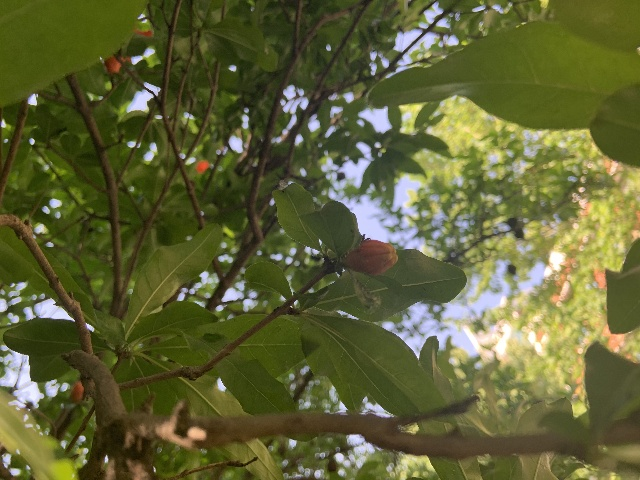bud: (345, 239, 397, 275), (70, 380, 84, 403)
